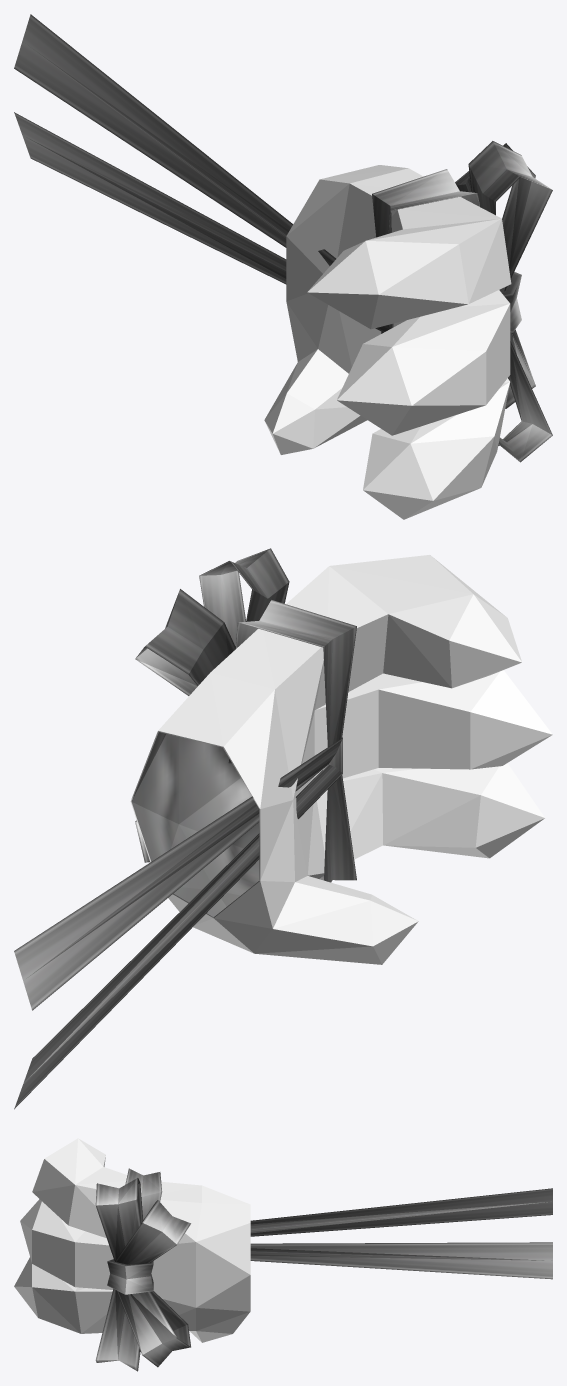
3 views of the same model, one above another, from view 1: azimuth 30°, elevation 25°; view 2: azimuth 150°, elevation 25°; view 3: azimuth 270°, elevation 25° (orthographic). The views are drawn at different scales.
Parts seen in each view (by area): view 1: B_0023_1a_1, B_0023_1a_0; view 2: B_0023_1a_1, B_0023_1a_0; view 3: B_0023_1a_0, B_0023_1a_1.
Part boxes in pixels (left/top/right/bottom): B_0023_1a_1: left=264, top=165, right=511, bottom=519; B_0023_1a_0: left=14, top=14, right=552, bottom=462; B_0023_1a_1: left=130, top=555, right=552, bottom=964; B_0023_1a_0: left=14, top=548, right=356, bottom=1109; B_0023_1a_0: left=95, top=1168, right=552, bottom=1371; B_0023_1a_1: left=14, top=1138, right=250, bottom=1342.
Bounding box in the file's own units: 3.04 × 3.19 × 8.02.
2 materials, 2 textured.
